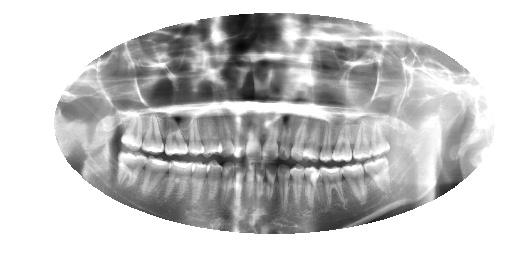Cavity: (206, 158, 223, 202), (265, 163, 279, 204), (291, 163, 304, 207), (280, 118, 293, 162)
Fillings: (163, 159, 198, 206), (363, 156, 398, 195), (338, 164, 370, 204), (318, 164, 347, 206), (163, 114, 189, 157), (140, 114, 165, 155), (331, 119, 353, 163)
